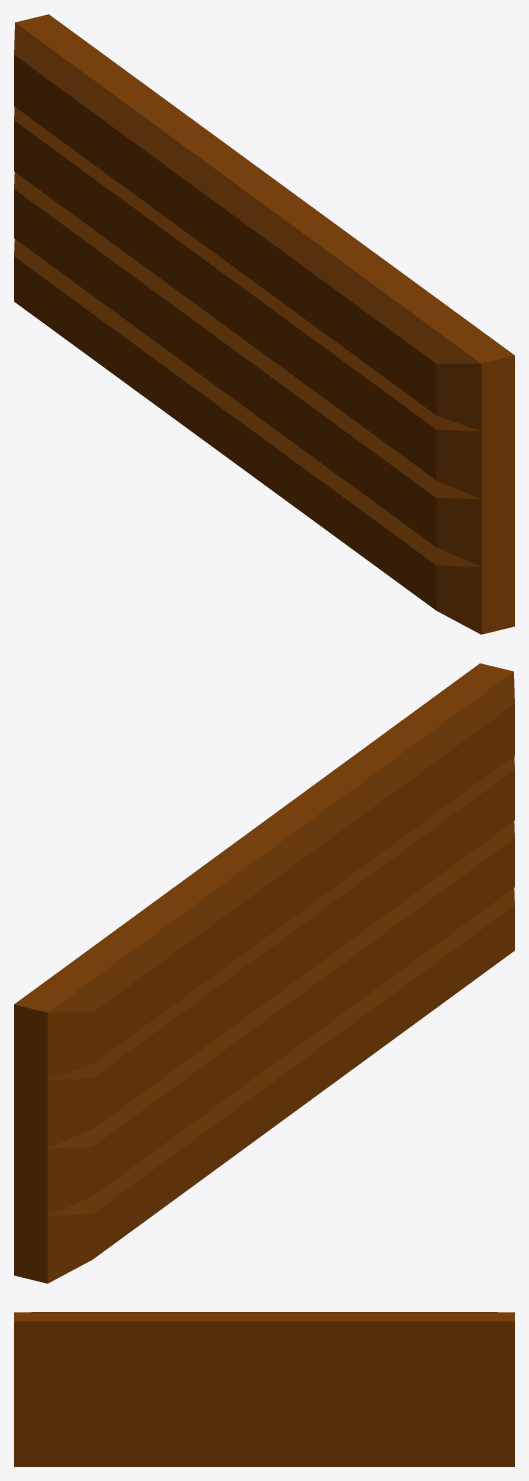
File: Chocolate.fbx
3 renders of one model, top to bottom at view 1: azimuth 30°, elevation 25°; view 2: azimuth 150°, elevation 25°; view 3: azimuth 270°, elevation 25°, orthographic. The views are drawn at different scales.
Visible parts, largest first — view 1: Chocolate; view 2: Chocolate; view 3: Chocolate.
Boxes of the visible parts, left/top/right/bottom form: Chocolate: left=14, top=14, right=514, bottom=634; Chocolate: left=14, top=663, right=514, bottom=1283; Chocolate: left=14, top=1312, right=514, bottom=1466.
Size of the model in its own units: 12.33 by 56.3 by 176.
